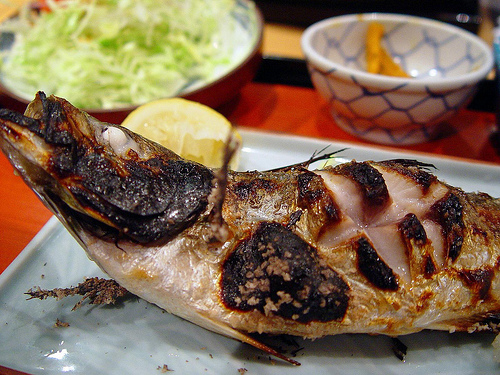fish: (3, 92, 499, 365)
